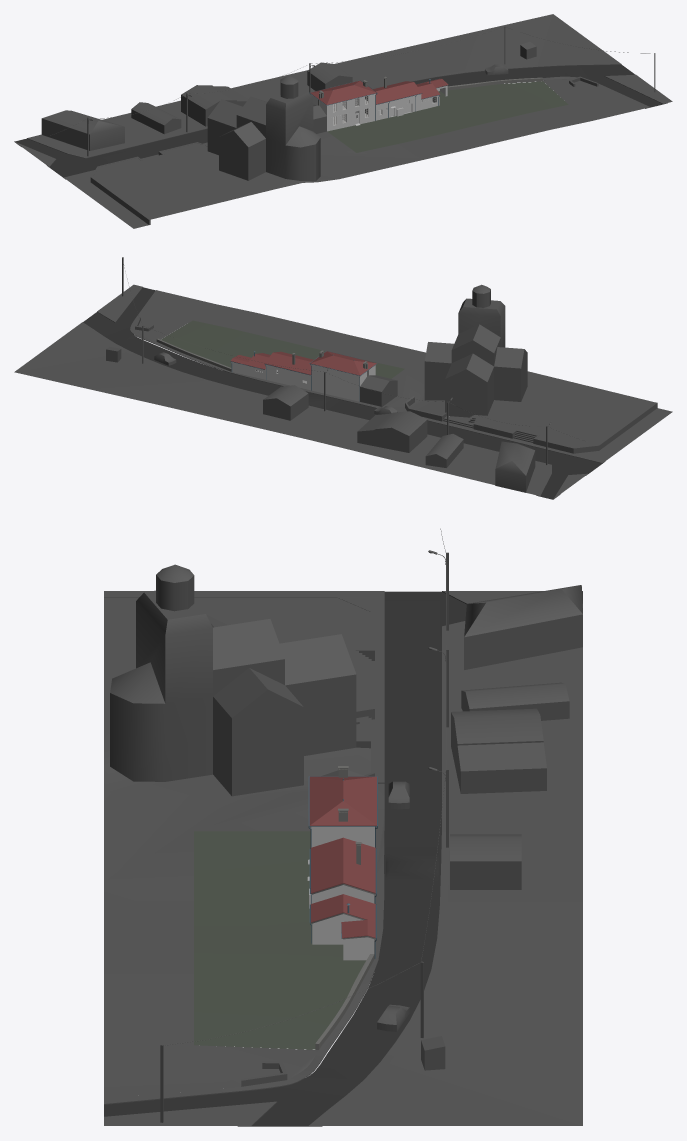
Rendered from house.glb.
3 views of the same model, one above another, from view 1: azimuth 30°, elevation 25°; view 2: azimuth 150°, elevation 25°; view 3: azimuth 270°, elevation 25° (orthographic). The views are drawn at different scales.
Visible parts, largest first — view 1: zone, EGLISE002, jardin, ROAD, HOUSE004, TROTOIRE, toit, Facade, HOUSE001, HOUSE003, HOUSE002, MURETTE001 (+2 smaller); view 2: zone, EGLISE002, ROAD, jardin, TROTOIRE, Facade, HOUSE001, toit, HOUSE004, MURETTE001, HOUSE002, LOCAL (+1 smaller); view 3: zone, EGLISE002, ROAD, jardin, TROTOIRE, toit, HOUSE004, HOUSE001, HOUSE002, Facade, HOUSE003, DOSDANE (+1 smaller).
Boxes of the visible parts, <box> form: zone: <box>22,14,672,228</box>; EGLISE002: <box>207,75,320,181</box>; jardin: <box>327,81,568,152</box>; ROAD: <box>15,64,663,177</box>; HOUSE004: <box>41,110,124,150</box>; TROTOIRE: <box>14,61,667,179</box>; toit: <box>310,78,448,104</box>; Facade: <box>311,85,447,131</box>; HOUSE001: <box>181,85,248,126</box>; HOUSE003: <box>131,102,181,134</box>; HOUSE002: <box>307,62,352,90</box>; MURETTE001: <box>90,142,207,224</box>; zone: <box>14,284,672,494</box>; EGLISE002: <box>424,284,527,417</box>; ROAD: <box>83,287,602,499</box>; jardin: <box>161,320,404,378</box>; TROTOIRE: <box>79,286,605,499</box>; Facade: <box>231,362,375,401</box>; HOUSE001: <box>357,411,427,452</box>; toit: <box>231,351,376,375</box>; HOUSE004: <box>495,441,535,492</box>; MURETTE001: <box>405,396,657,453</box>; HOUSE002: <box>263,385,308,420</box>; LOCAL: <box>360,375,397,406</box>; zone: <box>104,591,582,1125</box>; EGLISE002: <box>110,564,356,796</box>; ROAD: <box>104,591,582,1126</box>; jardin: <box>194,831,366,1049</box>; TROTOIRE: <box>104,591,582,1126</box>; toit: <box>309,776,376,938</box>; HOUSE004: <box>464,585,582,669</box>; HOUSE001: <box>451,708,546,793</box>; HOUSE002: <box>450,834,521,889</box>; Facade: <box>308,826,374,960</box>; HOUSE003: <box>461,682,569,720</box>; DOSDANE: <box>385,846,438,888</box>.
Bounding box in the file's own units: 130 × 23.65 × 50.03.
